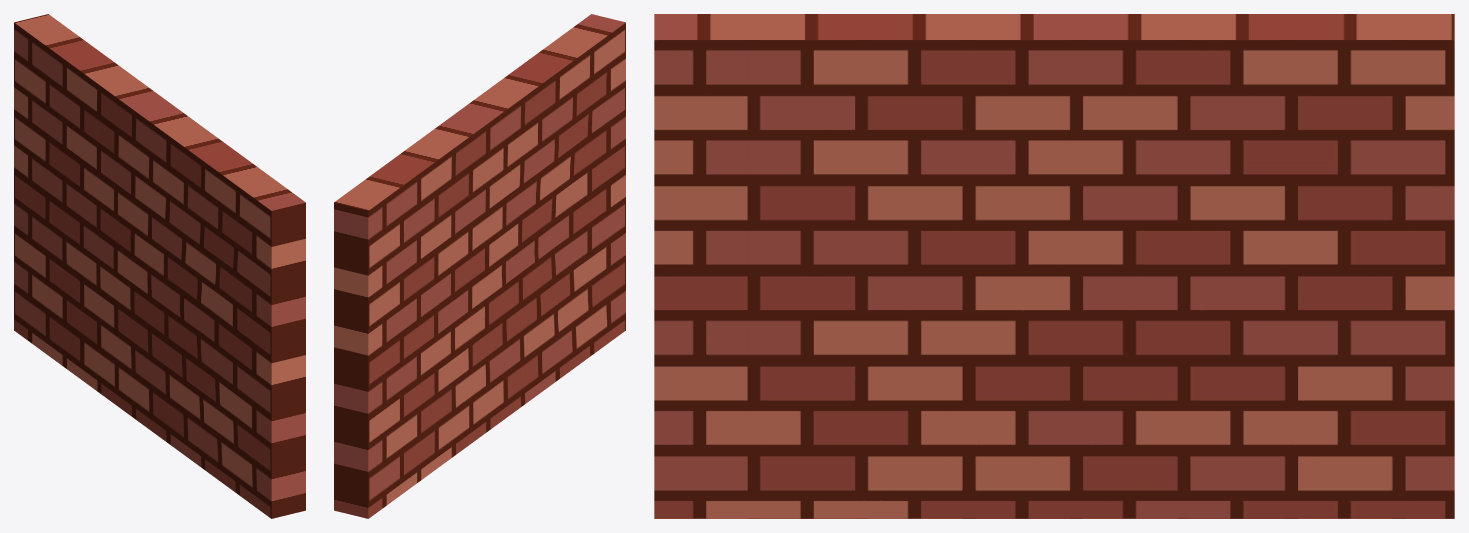
File: wall.fbx
3 renders of one model, left to right at view 1: azimuth 30°, elevation 25°; view 2: azimuth 150°, elevation 25°; view 3: azimuth 270°, elevation 25°, orthographic. The views are drawn at different scales.
Visible parts, largest first — view 1: wall_part 3, wall_part 9.001, wall_part 2, wall_part 8, wall_part 5, wall_part 1, wall_part 9, wall_part 6, wall_part 4; view 2: wall_part 3, wall_part 8, wall_part 2, wall_part 1, wall_part 5, wall_part 9.001, wall_part 9, wall_part 4, wall_part 6; view 3: wall_part 3, wall_part 8, wall_part 2, wall_part 9.001, wall_part 5, wall_part 9, wall_part 1, wall_part 6, wall_part 4, wall_part 7.
Part boxes in pixels (x1,y1,x2,y2): wall_part 3: (144,130,305,346); wall_part 9.001: (200,324,305,518); wall_part 2: (67,70,206,272); wall_part 8: (14,184,127,413); wall_part 5: (58,174,176,415); wall_part 1: (14,14,124,131); wall_part 9: (113,337,222,482); wall_part 6: (139,189,201,336); wall_part 4: (14,121,80,244); wall_part 3: (492,14,625,239); wall_part 8: (334,352,482,518); wall_part 2: (411,86,527,278); wall_part 1: (334,146,442,309); wall_part 5: (412,264,530,391); wall_part 9.001: (554,158,625,365); wall_part 9: (468,260,576,435); wall_part 4: (334,242,435,372); wall_part 6: (494,146,556,286); wall_part 3: (654,14,1051,289); wall_part 8: (1101,273,1454,518); wall_part 2: (959,14,1289,290); wall_part 9.001: (654,250,887,518); wall_part 5: (944,203,1314,474); wall_part 9: (806,341,1144,518); wall_part 1: (1216,14,1454,190); wall_part 6: (870,152,1063,345); wall_part 4: (1248,151,1454,328); wall_part 7: (868,290,948,345).
Bounding box in the file's own units: 0.5478 × 4.68 × 7.1.
1 material, 1 textured.
